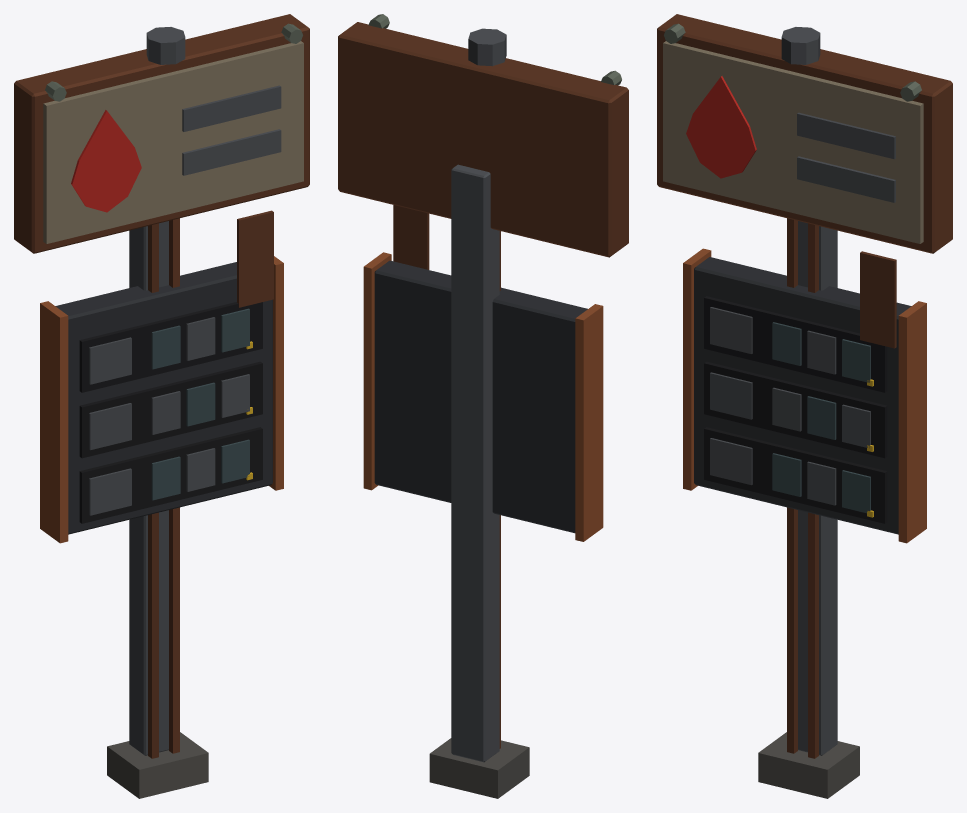
Rendered from lmk_fuel_pylon.fbx.
The picture shows the model from 3 angles, left to right: view 1: azimuth 30°, elevation 25°; view 2: azimuth 150°, elevation 25°; view 3: azimuth 330°, elevation 25°; orthographic projection.
Visible parts, largest first — view 1: lmk_fuel_pylon; view 2: lmk_fuel_pylon; view 3: lmk_fuel_pylon.
Part boxes in pixels (box(x1,y1,x2,y2)): lmk_fuel_pylon: box(14, 14, 309, 798); lmk_fuel_pylon: box(338, 14, 628, 798); lmk_fuel_pylon: box(657, 14, 952, 798).
Size of the model in its own units: 4 by 10.3 by 0.9.
